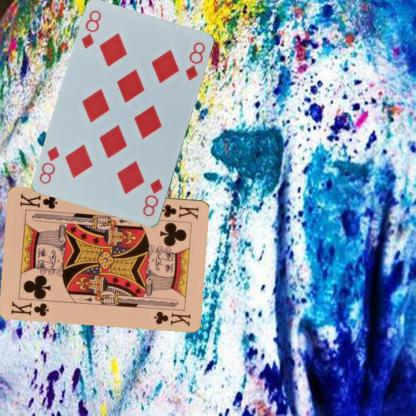8d: (78, 8, 103, 50), (140, 176, 164, 218)
Kc: (9, 298, 50, 317), (159, 202, 200, 220)
